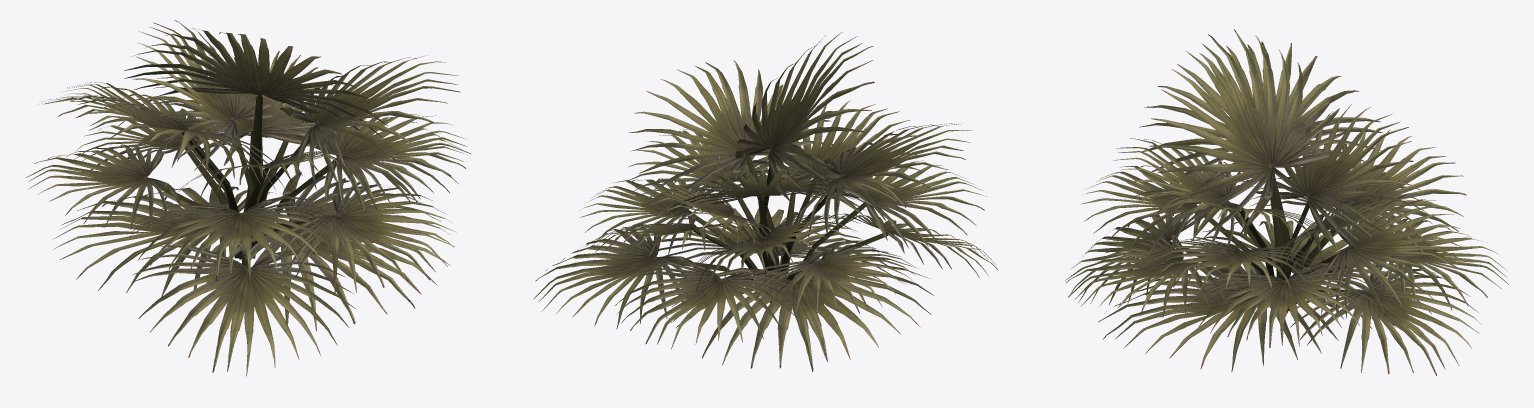
Rendered from Swamppalm_v1.FBX.
3 renders of one model, left to right at view 1: azimuth 30°, elevation 25°; view 2: azimuth 150°, elevation 25°; view 3: azimuth 270°, elevation 25°, orthographic. The views are drawn at different scales.
Visible parts, largest first — view 1: fanpalm_base; view 2: fanpalm_base; view 3: fanpalm_base.
Part boxes in pixels (x1,y1,x2,y2): fanpalm_base: [26, 20, 470, 376]; fanpalm_base: [533, 32, 997, 371]; fanpalm_base: [1065, 29, 1508, 375].
Bounding box in the file's own units: 122 × 79.58 × 126.
Materials: 1 (1 with a texture image).
